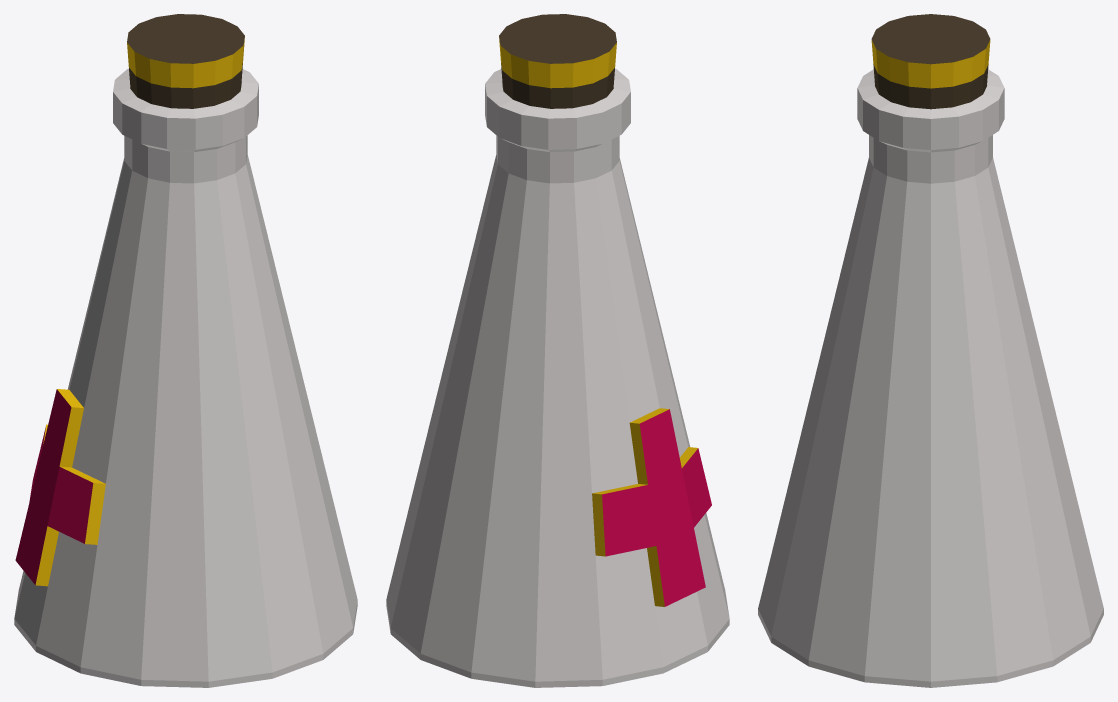
Rendered from Antivenom5star.fbx.
The picture shows the model from 3 angles, left to right: view 1: azimuth 30°, elevation 25°; view 2: azimuth 150°, elevation 25°; view 3: azimuth 270°, elevation 25°; orthographic projection.
Visible parts, largest first — view 1: Bottle; view 2: Bottle; view 3: Bottle.
Boxes of the visible parts, left/top/right/bottom form: Bottle: left=14, top=14, right=357, bottom=687; Bottle: left=386, top=14, right=729, bottom=687; Bottle: left=758, top=14, right=1103, bottom=687.
Size of the model in its own units: 136 by 249 by 136.
